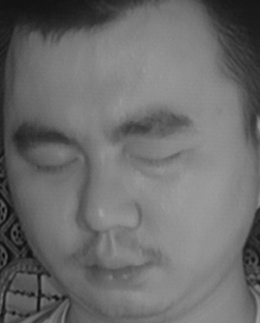blink: (132, 140, 180, 176), (31, 150, 81, 184)
mouth: (71, 240, 156, 295)
